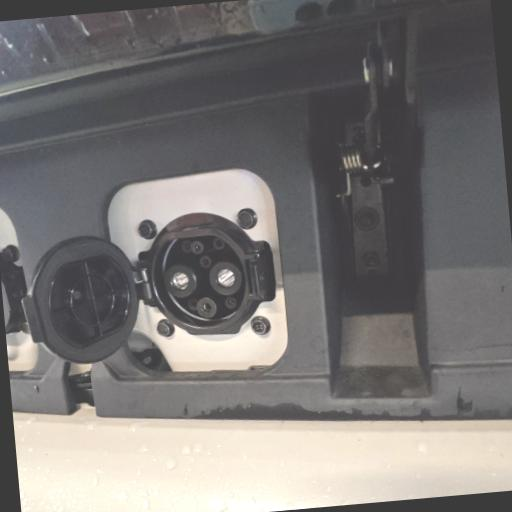DC_charging_port: (143, 222, 258, 341)
DC_hole: (207, 258, 244, 296), (162, 263, 198, 300)
PE: (196, 294, 219, 320)
